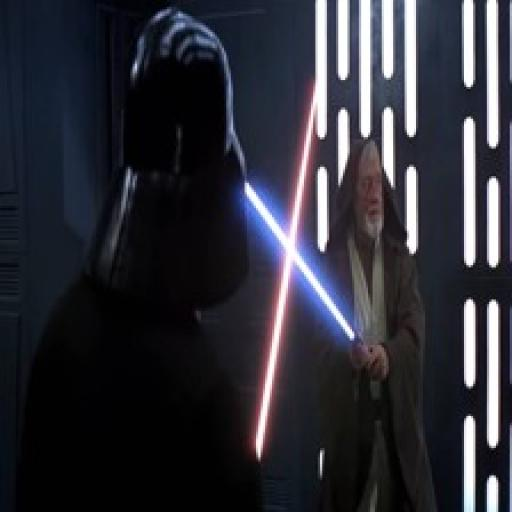human: (323, 136, 426, 512)
lightsaber: (238, 176, 379, 361)
sith saber: (222, 76, 326, 463)
